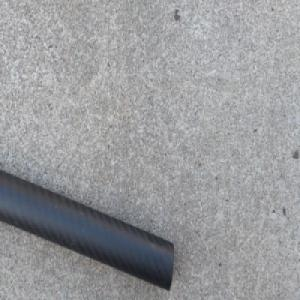LuggagePart: (0, 161, 175, 294)
